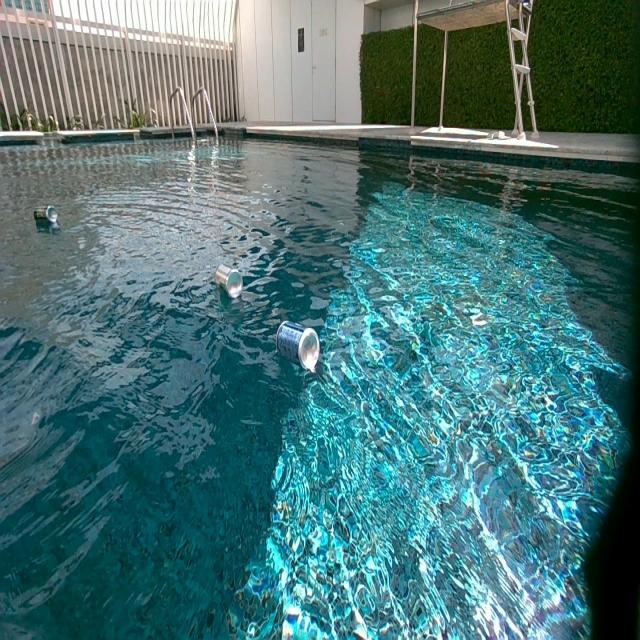Cans: (274, 319, 320, 371), (216, 268, 244, 300), (34, 206, 57, 227)
